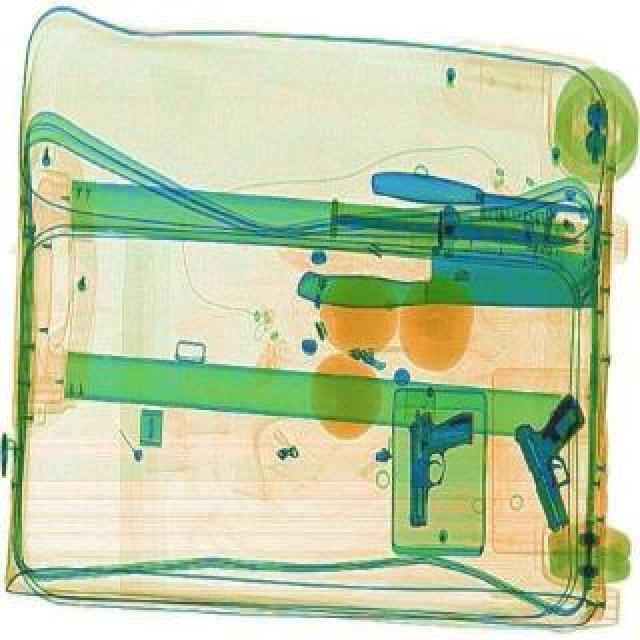gun: (510, 388, 622, 532), (408, 402, 478, 526)
knife: (300, 236, 604, 318), (372, 166, 598, 224), (338, 208, 582, 248)
